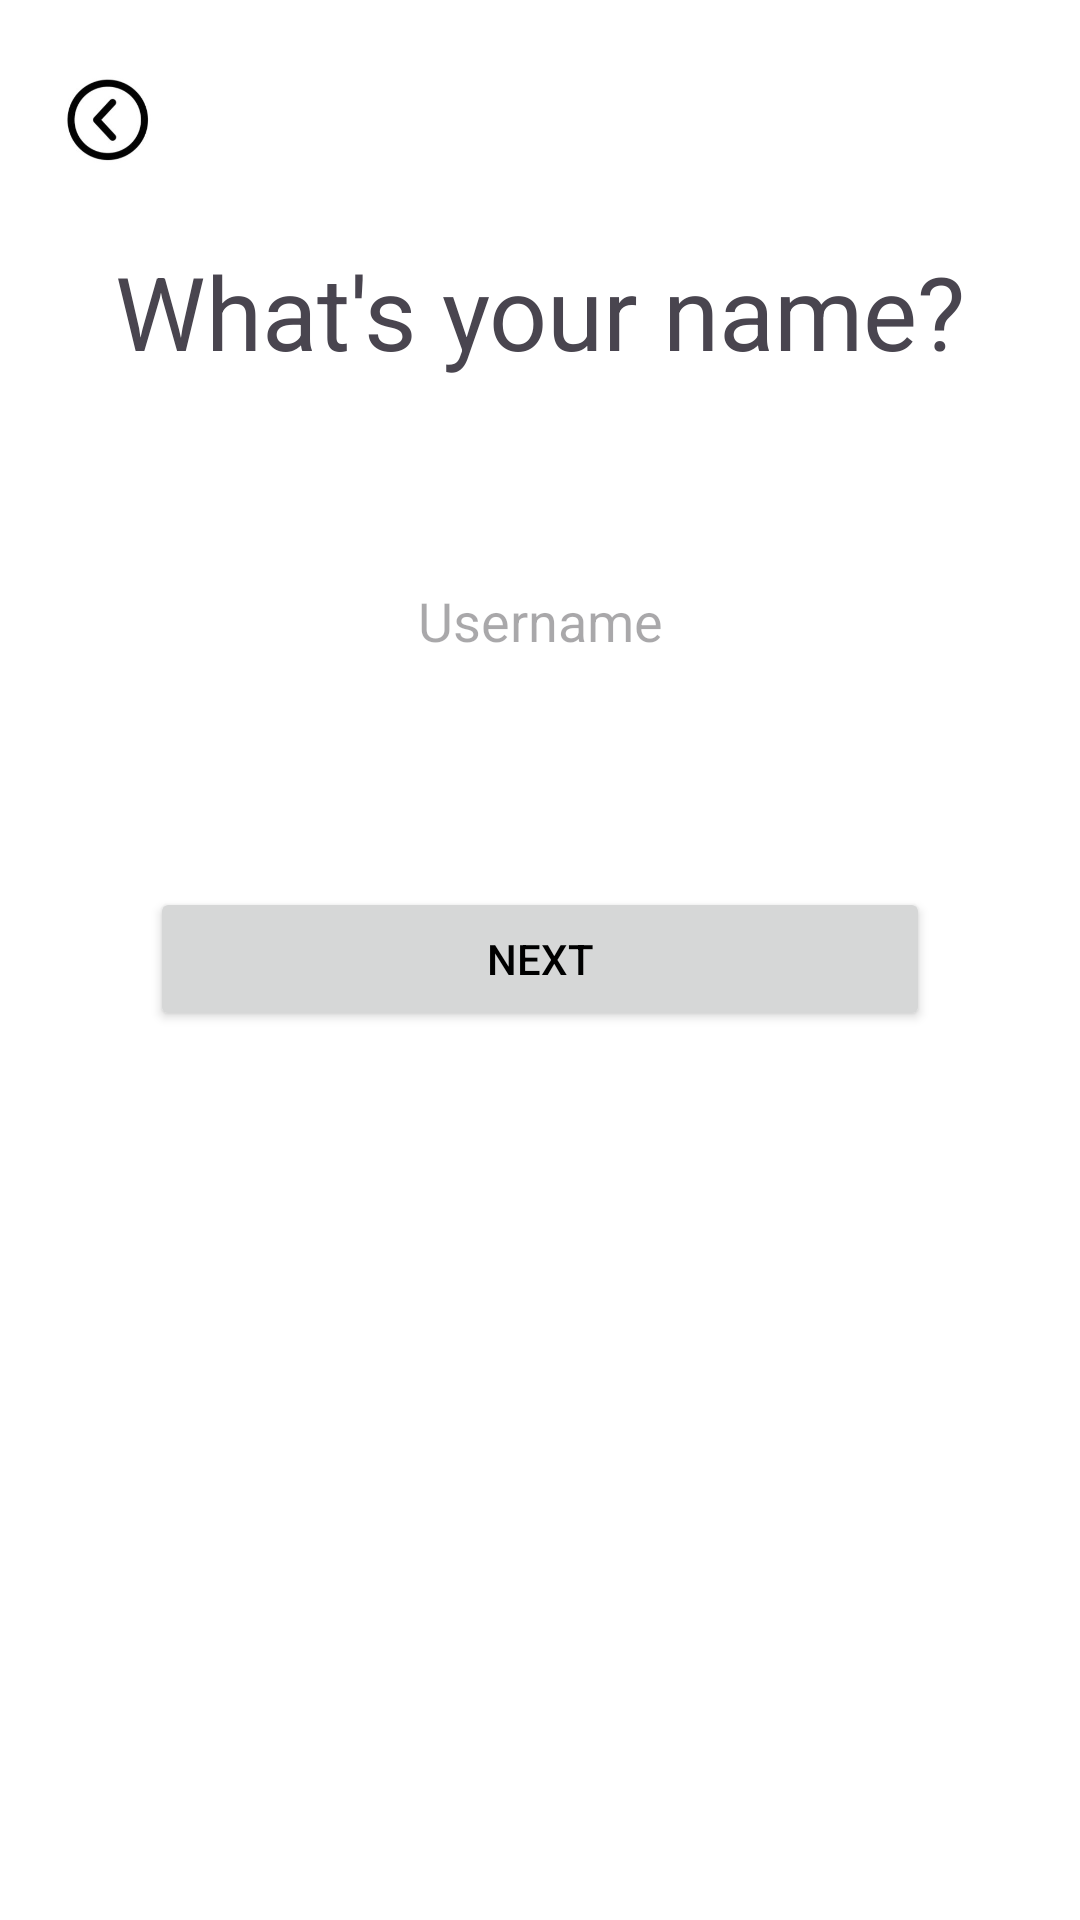

Locate icon controls on the screen. Image size 1080px×1920px, boxes as box(x1, y1, x2, y2).
back: box(67, 79, 148, 160)
